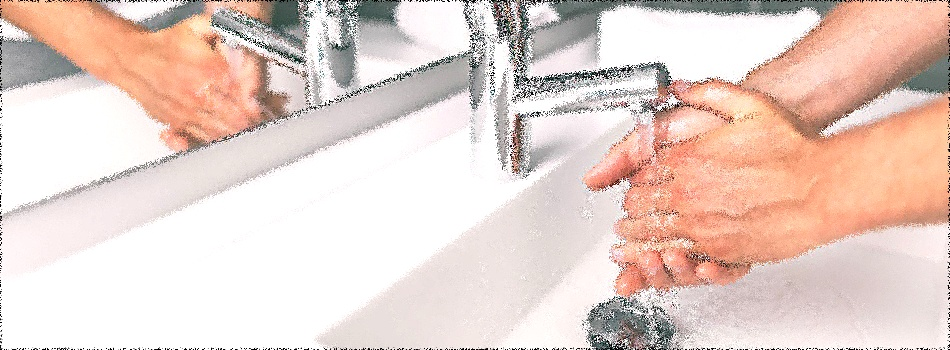washing hand: (557, 29, 771, 346)
